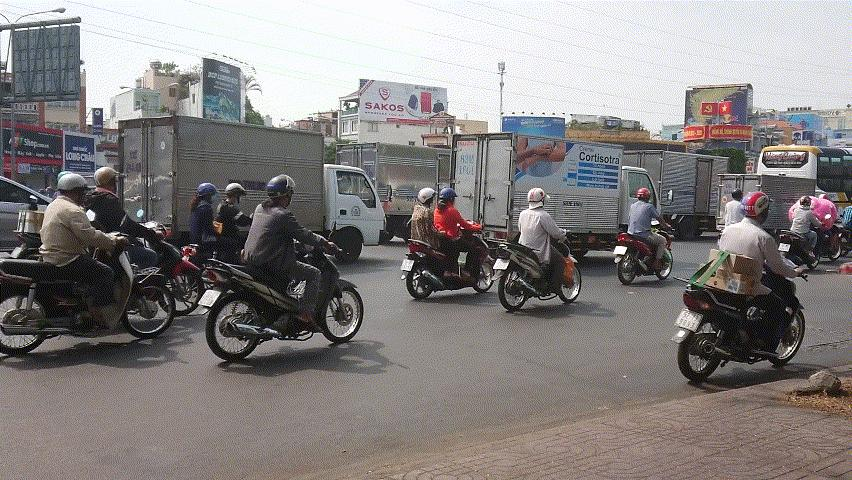driver: (0, 172, 176, 356), (198, 173, 363, 361), (670, 191, 806, 382), (491, 187, 581, 311), (400, 187, 494, 301), (614, 186, 679, 285), (778, 194, 832, 270)
helmet: (740, 189, 774, 227), (266, 174, 296, 209), (57, 174, 90, 205), (93, 166, 123, 196), (196, 181, 220, 205), (224, 181, 247, 206), (527, 187, 551, 210), (417, 187, 438, 209), (438, 187, 458, 207), (636, 187, 653, 203), (732, 188, 743, 202), (799, 196, 812, 207)
